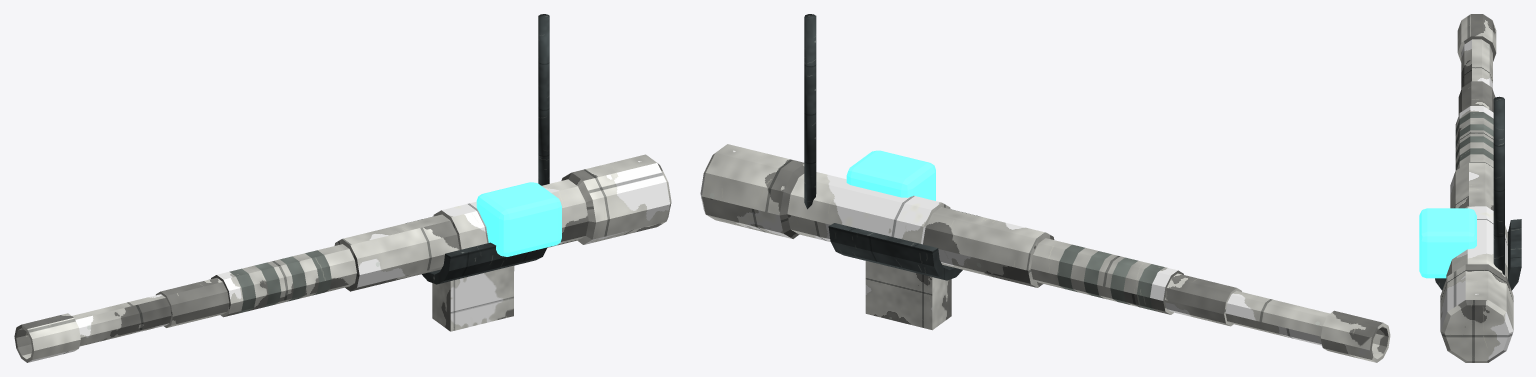
File: light_tank_turret.glb
3 renders of one model, left to right at view 1: azimuth 30°, elevation 25°; view 2: azimuth 150°, elevation 25°; view 3: azimuth 270°, elevation 25°, orthographic. The views are drawn at different scales.
Parts seen in each view (by area): view 1: Tank_Gun_baked, Tank_Turret_baked, commander_optics, commander_antenna; view 2: Tank_Gun_baked, Tank_Turret_baked, commander_optics, commander_antenna; view 3: Tank_Gun_baked, commander_optics, commander_antenna, Tank_Turret_baked.
Boxes of the visible parts, x1,y1,x2,y2 form: Tank_Gun_baked: (14,154,671,362); Tank_Turret_baked: (406,216,547,331); commander_optics: (476,182,561,256); commander_antenna: (538,14,549,185); Tank_Gun_baked: (700,144,1390,362); Tank_Turret_baked: (828,209,977,330); commander_optics: (846,150,935,200); commander_antenna: (804,14,816,209); Tank_Gun_baked: (1440,14,1513,362); commander_optics: (1419,208,1476,278); commander_antenna: (1493,96,1504,274); Tank_Turret_baked: (1435,219,1521,290).
Bounding box in the file's own units: 2.23 × 0.9212 × 0.3199.
5 materials, 4 textured.
